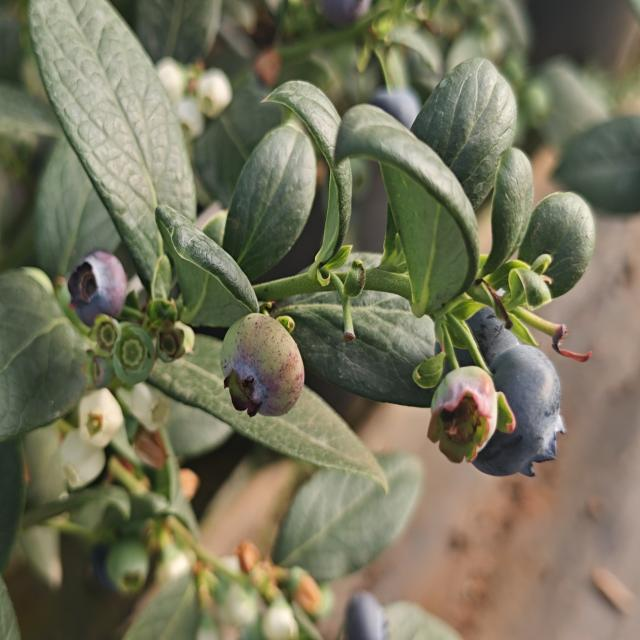ripe: (465, 340, 566, 481), (452, 286, 530, 390), (64, 247, 129, 331)
